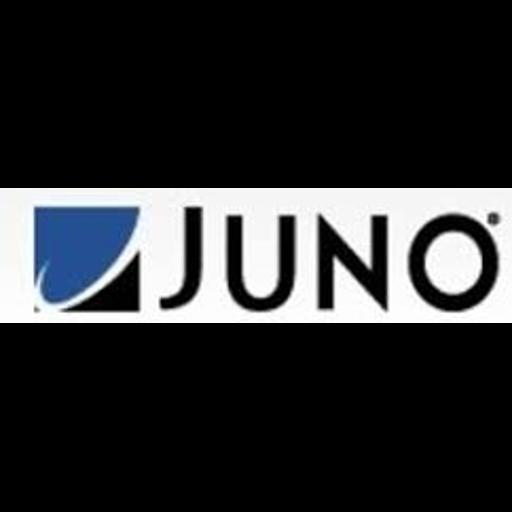Juno Online Services: (0, 188, 512, 323)
